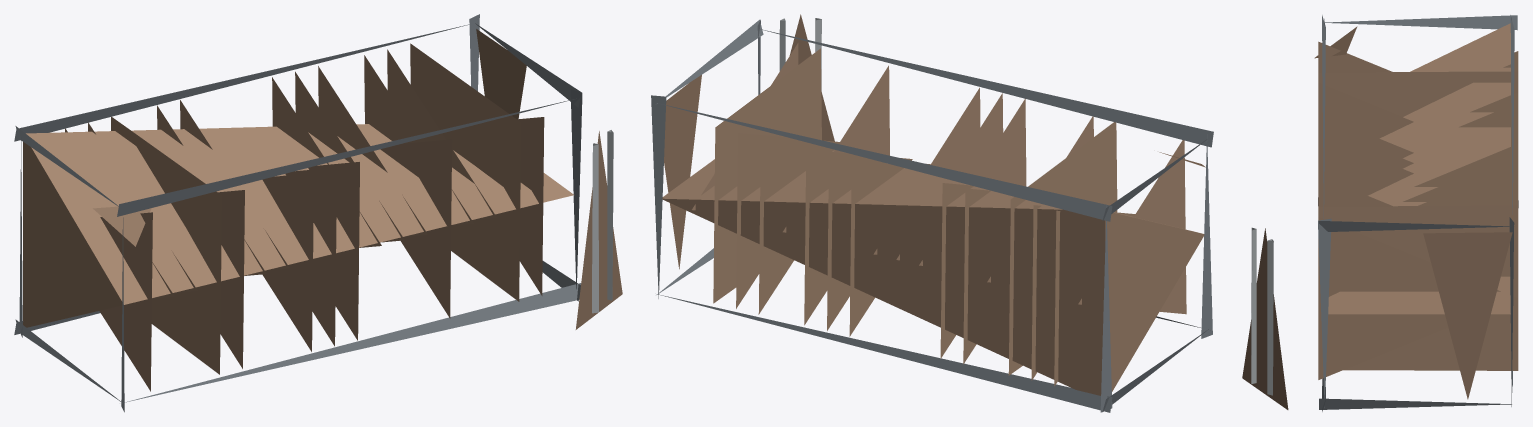
The picture shows the model from 3 angles, left to right: view 1: azimuth 30°, elevation 25°; view 2: azimuth 150°, elevation 25°; view 3: azimuth 270°, elevation 25°; orthographic projection. The views are drawn at different scales.
Parts seen in each view (by area): view 1: sea_cargo_container_sunk.001; view 2: sea_cargo_container_sunk.001; view 3: sea_cargo_container_sunk.001.
Part boxes in pixels (box(x1,y1,x2,y2)): sea_cargo_container_sunk.001: box(14, 14, 622, 412); sea_cargo_container_sunk.001: box(651, 14, 1213, 412); sea_cargo_container_sunk.001: box(1242, 15, 1518, 411).
Size of the model in its own units: 6.42 by 2.59 by 3.4.
